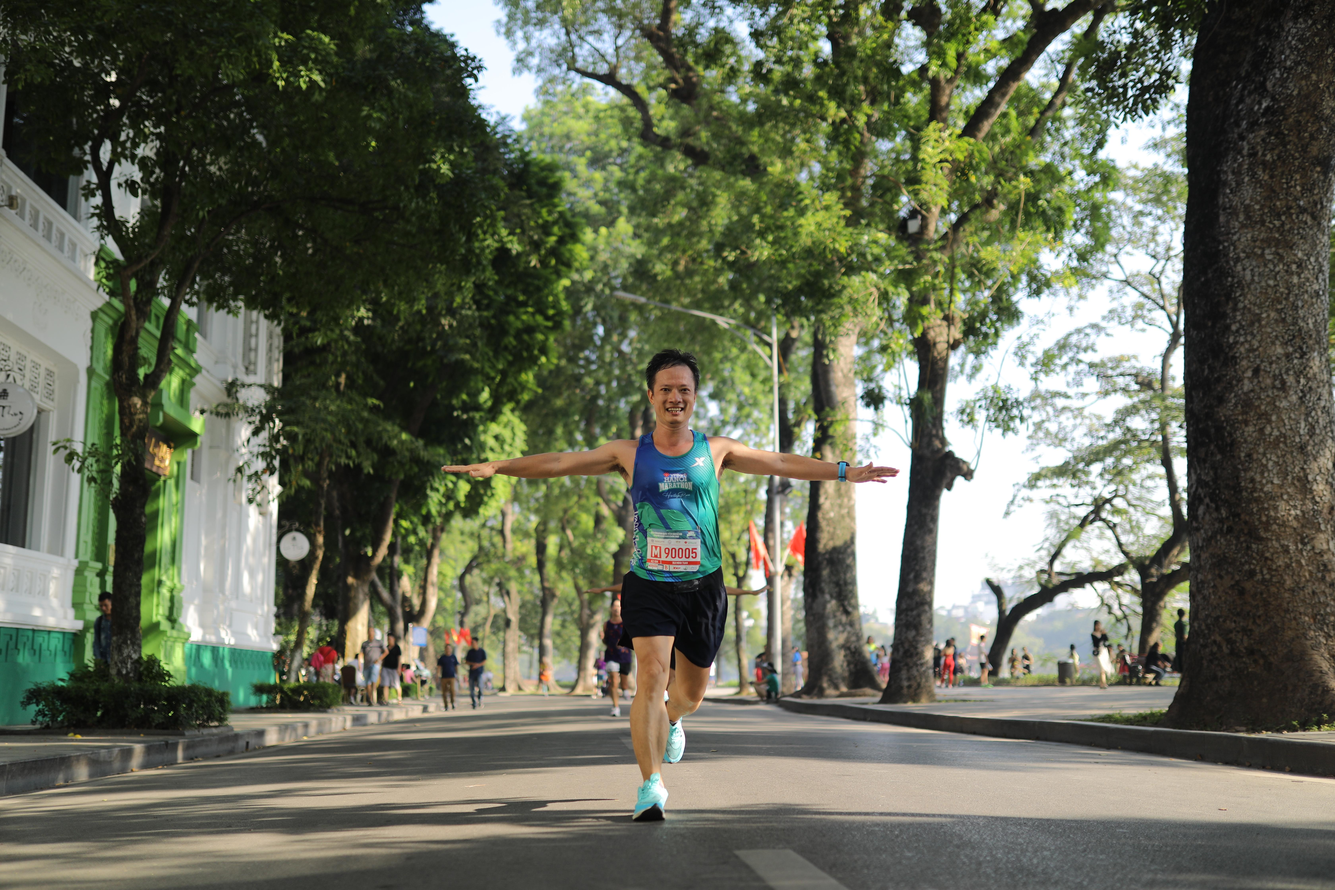bib: (646, 528, 700, 572)
